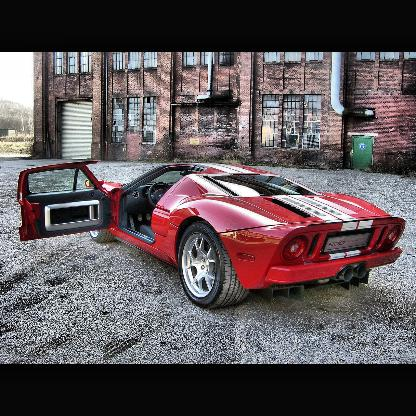Ford GT Coupe 2006: (16, 161, 409, 311)
